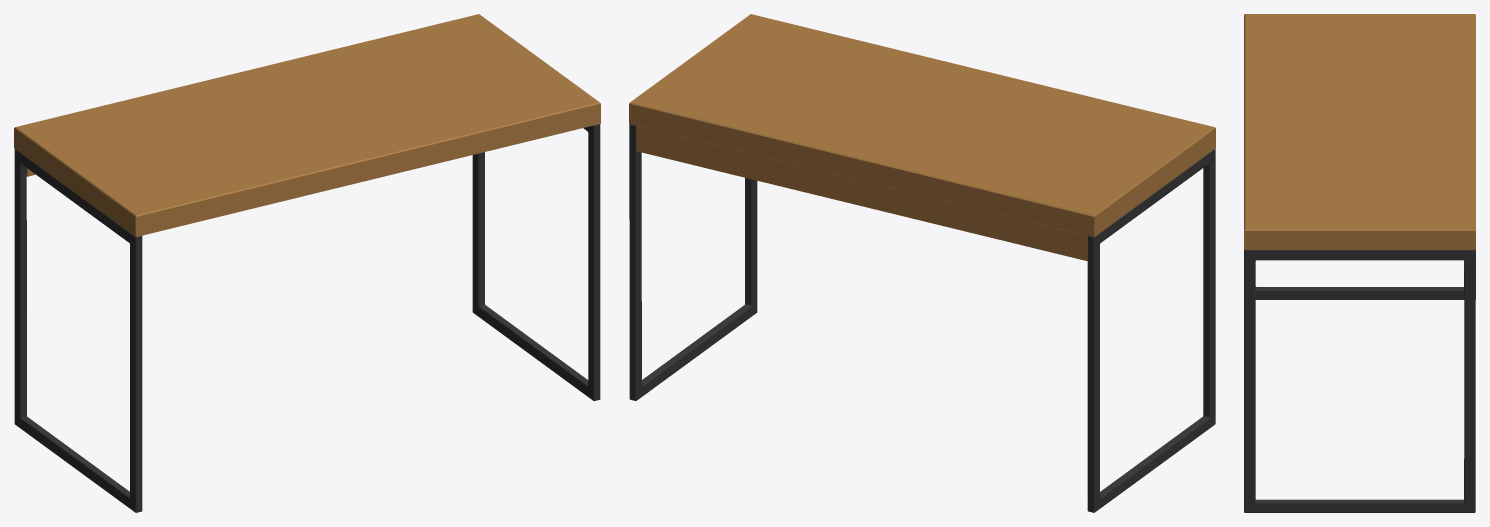
Rendered from table_1,35m.fbx.
3 views of the same model, side by side, from view 1: azimuth 30°, elevation 25°; view 2: azimuth 150°, elevation 25°; view 3: azimuth 270°, elevation 25° (orthographic). The views are drawn at different scales.
Visible parts, largest first — view 1: sm_table_1,2m; view 2: sm_table_1,2m; view 3: sm_table_1,2m.
Part boxes in pixels (<box>): sm_table_1,2m: <box>14,14,600,512</box>; sm_table_1,2m: <box>629,14,1215,512</box>; sm_table_1,2m: <box>1244,14,1475,512</box>.
Size of the model in its own units: 134 by 81.94 by 60.75.
